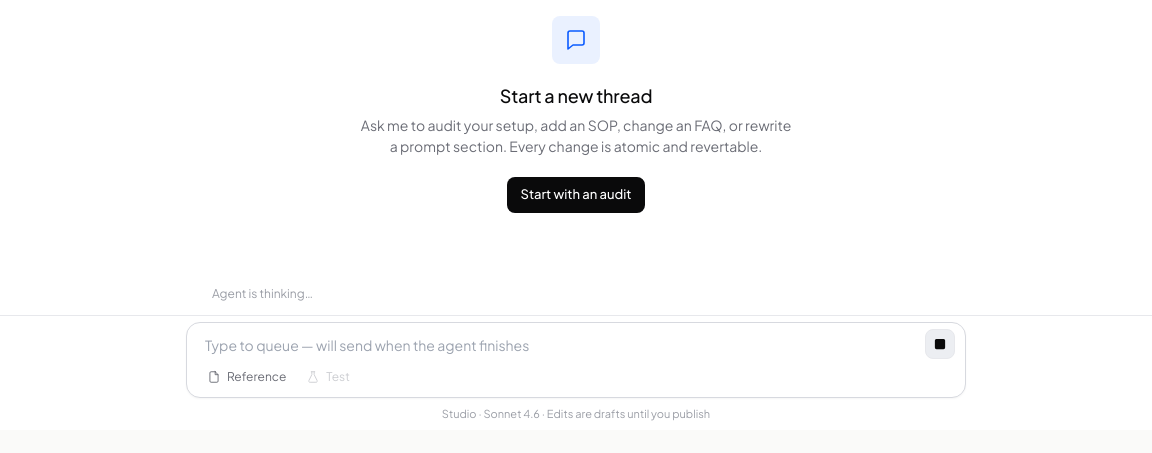
Scenario: StudioChat · F3b auto-queue while busy › queue badge popover shows queued messages; × removes an item
Step 1. Type "first queued" into the text box named "Message the studio agent" → point(557, 344), box [197,330,917,358]
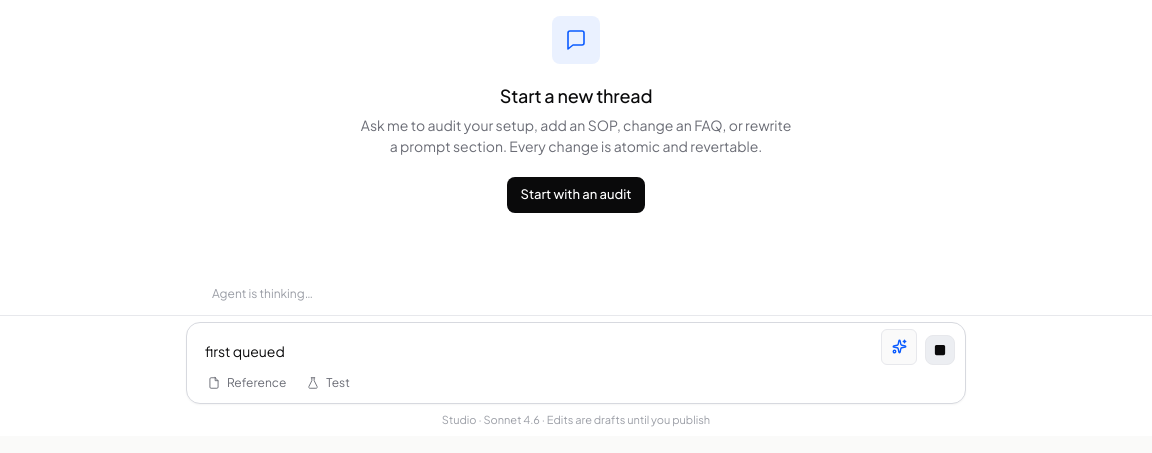
Step 2. Submit the form named "Message the studio agent", box [0,314,1151,436]
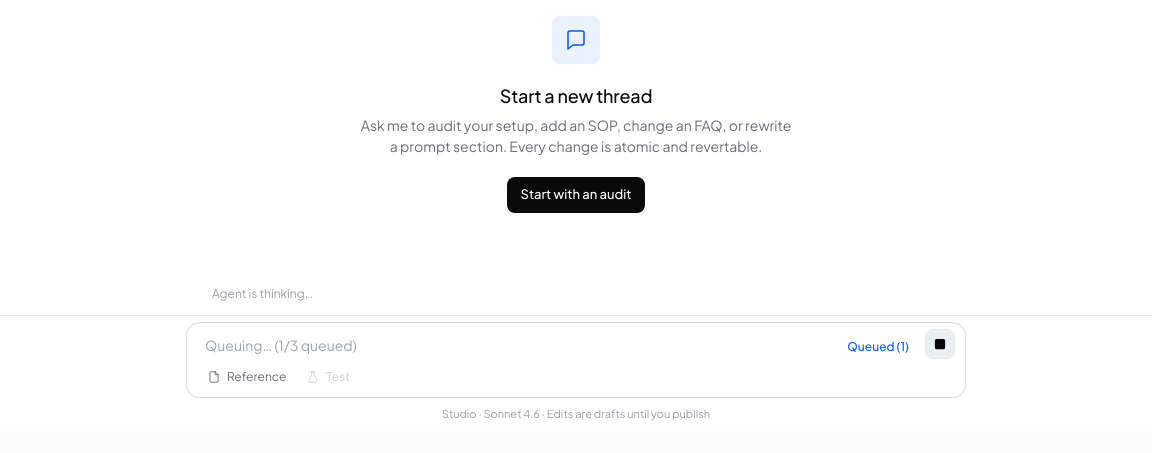
Result: the button with test id "queue-badge" is shown
Note: Open popover
Step 3. Click the button with test id "queue-badge" → point(878, 346), box [839,334,917,358]
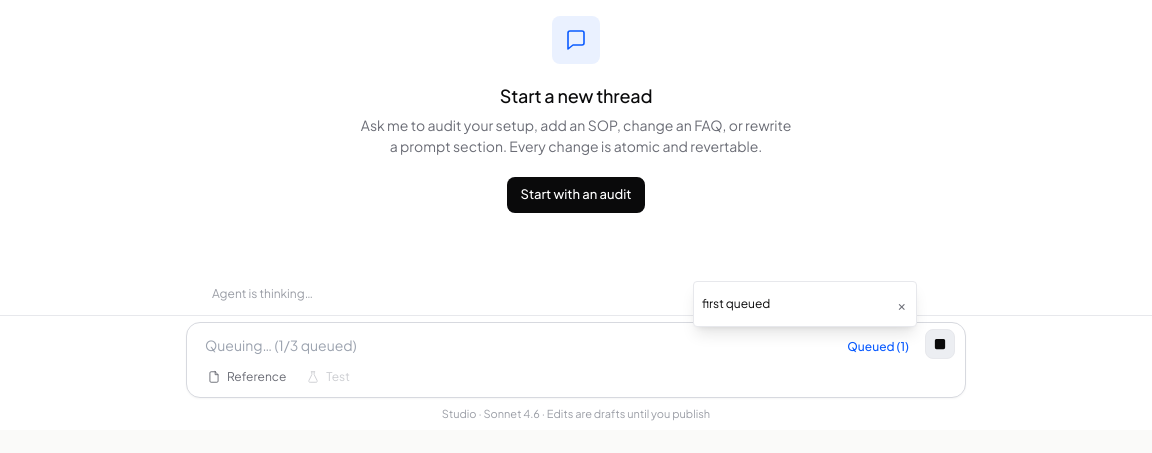
Result: the element with test id "queue-popover" is shown at [693,280,917,326]
Result: the text "first queued" is shown at [702,296,770,311]
Note: Click × to remove
Step 4. Click the button with test id "queue-item-remove" → point(902, 304), box [896,294,908,314]
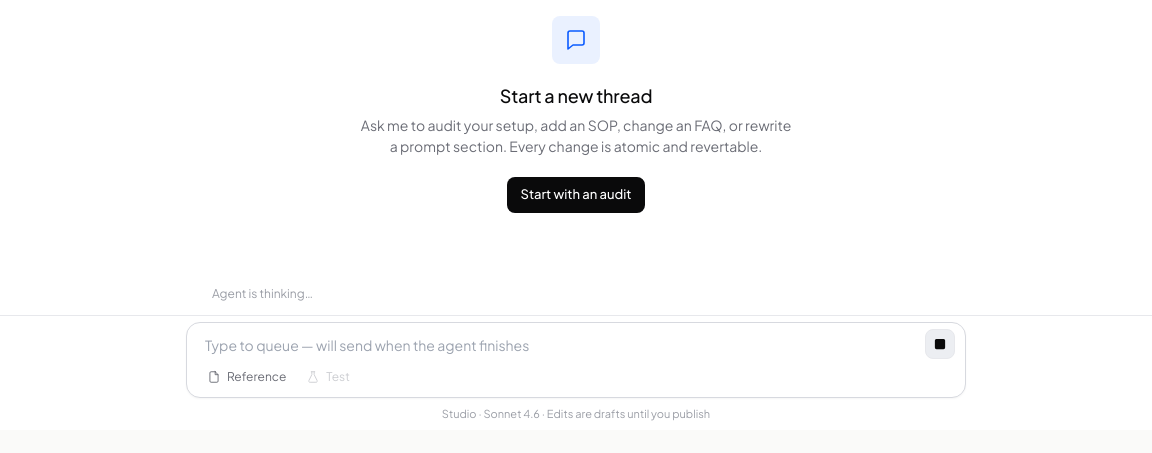
Result: the button with test id "queue-badge" is gone
